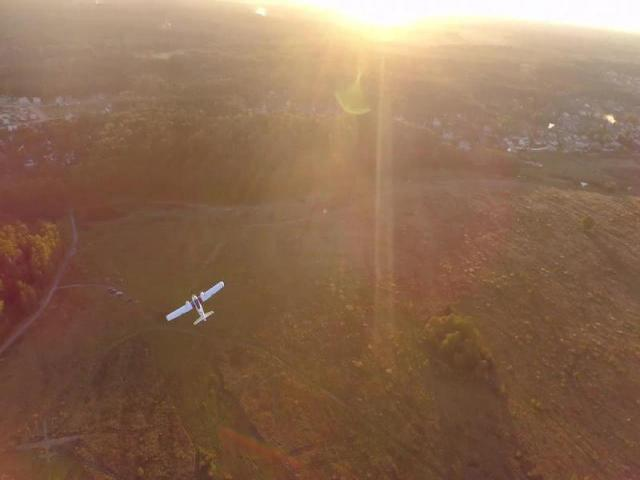hedef: (161, 273, 231, 329)
